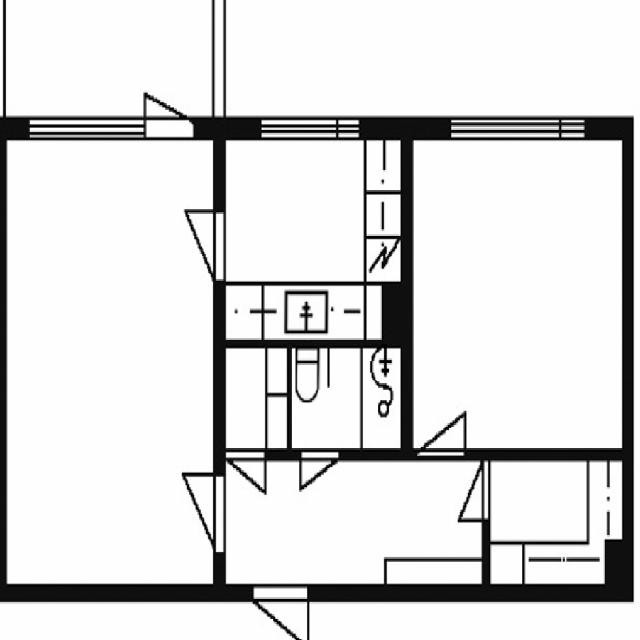door: (161, 474, 225, 551), (143, 45, 193, 140), (165, 209, 225, 280), (420, 383, 465, 459), (442, 463, 489, 522), (226, 447, 264, 515), (301, 447, 339, 515)
